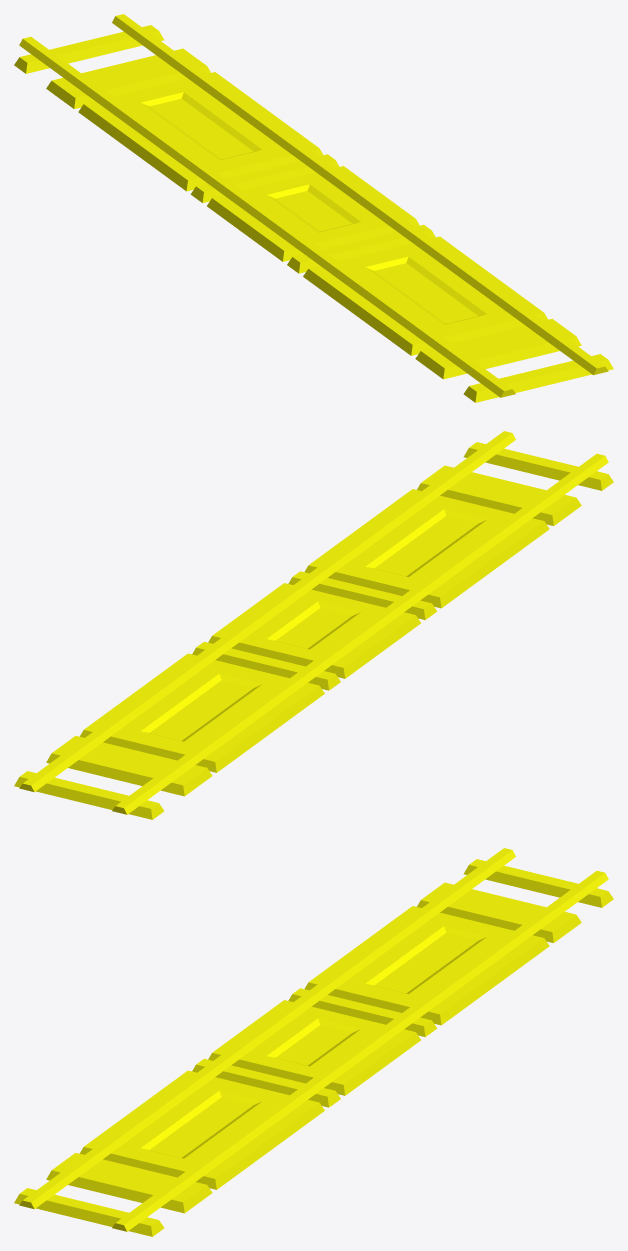
The model's file is kaykit-tracks-straight-station.glb.
3 views of the same model, one above another, from view 1: azimuth 30°, elevation 25°; view 2: azimuth 150°, elevation 25°; view 3: azimuth 330°, elevation 25° (orthographic).
Parts seen in each view (by area): view 1: tracks_straight_station; view 2: tracks_straight_station; view 3: tracks_straight_station.
Part boxes in pixels (x1,y1,x2,y2): tracks_straight_station: [14, 14, 613, 402]; tracks_straight_station: [14, 431, 613, 819]; tracks_straight_station: [14, 848, 613, 1236].
Bounding box in the file's own units: 0.4984 × 0.0502 × 3.
